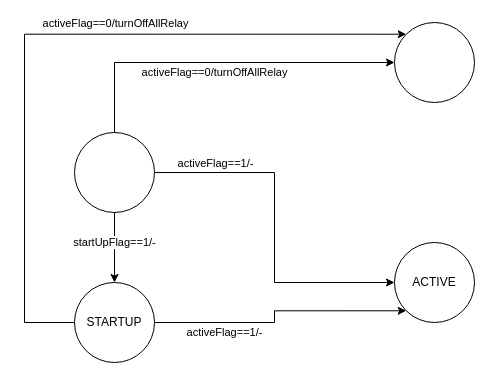
This 492x381 diagram has some shape labels left out. Each missing label, with the centre of its shape:
"IDLE" belongs at point 114,172.
"INACTIVE" belongs at point 434,62.
